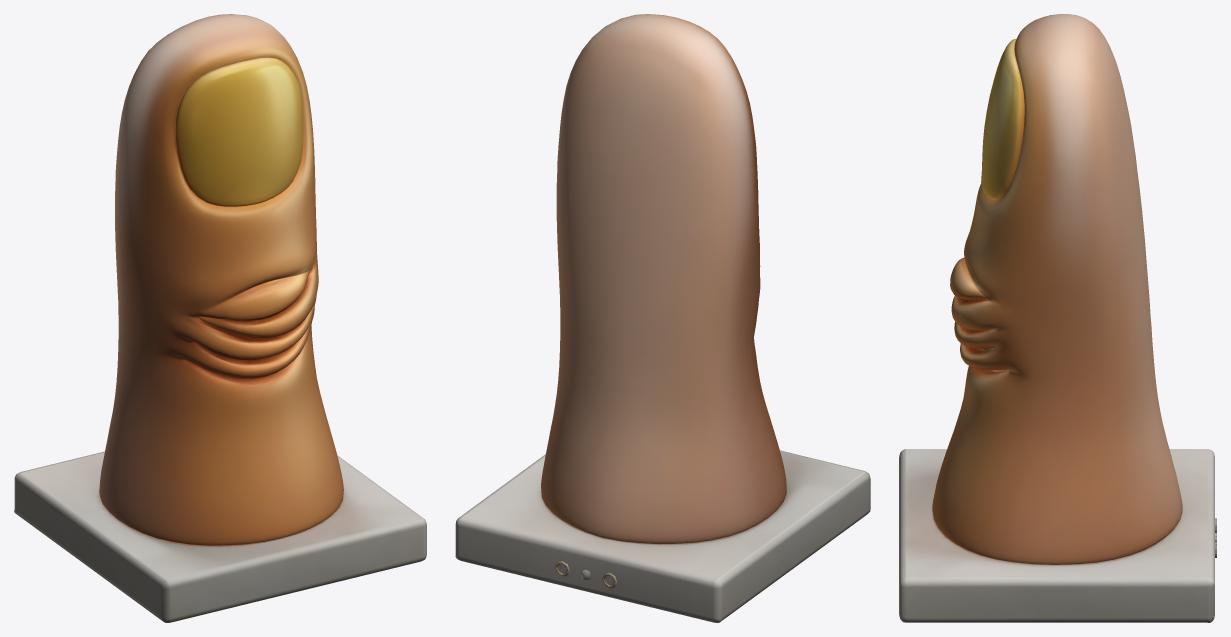
The model's file is LePouceModele3d.glb.
The picture shows the model from 3 angles, left to right: view 1: azimuth 30°, elevation 25°; view 2: azimuth 150°, elevation 25°; view 3: azimuth 270°, elevation 25°; orthographic projection. The views are drawn at different scales.
Visible parts, largest first — view 1: tripo_3251c604_6e3a_403a_91e7_191c4e36fb04; view 2: tripo_3251c604_6e3a_403a_91e7_191c4e36fb04; view 3: tripo_3251c604_6e3a_403a_91e7_191c4e36fb04.
Part boxes in pixels (left/top/right/bottom): tripo_3251c604_6e3a_403a_91e7_191c4e36fb04: left=14, top=14, right=426, bottom=622; tripo_3251c604_6e3a_403a_91e7_191c4e36fb04: left=455, top=14, right=870, bottom=622; tripo_3251c604_6e3a_403a_91e7_191c4e36fb04: left=899, top=14, right=1216, bottom=622.
Size of the model in its own units: 0.5366 by 0.9995 by 0.5396.
Materials: 1 (1 with a texture image).
